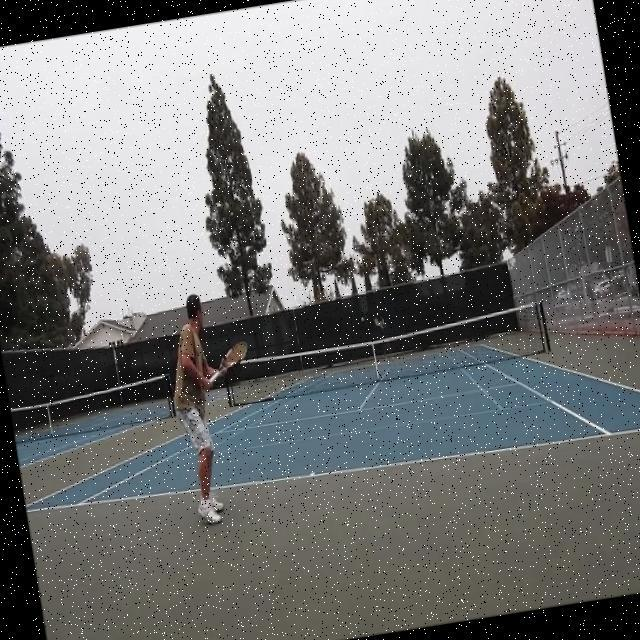court: (12, 319, 640, 528)
player: (157, 286, 276, 529)
